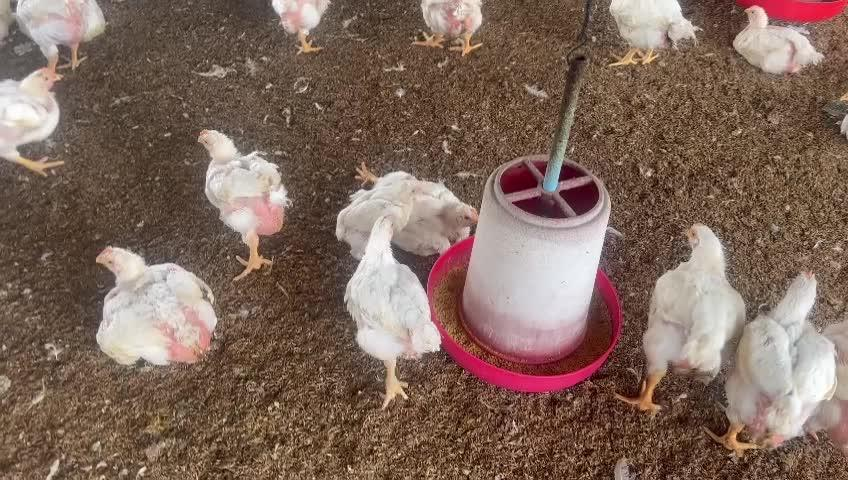AbNormal: (338, 160, 482, 253), (95, 245, 203, 354), (327, 177, 427, 261), (736, 4, 821, 74)
Normal: (705, 265, 832, 458), (617, 223, 744, 414), (343, 208, 442, 409), (197, 128, 289, 280), (0, 64, 66, 175), (17, 0, 105, 70), (605, 0, 690, 69), (412, 0, 490, 55), (274, 0, 333, 54)
